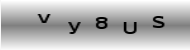8: (95, 15, 108, 29)
S: (151, 14, 164, 28)
U: (122, 21, 137, 34)
v: (37, 12, 51, 23)
y: (67, 21, 80, 34)
